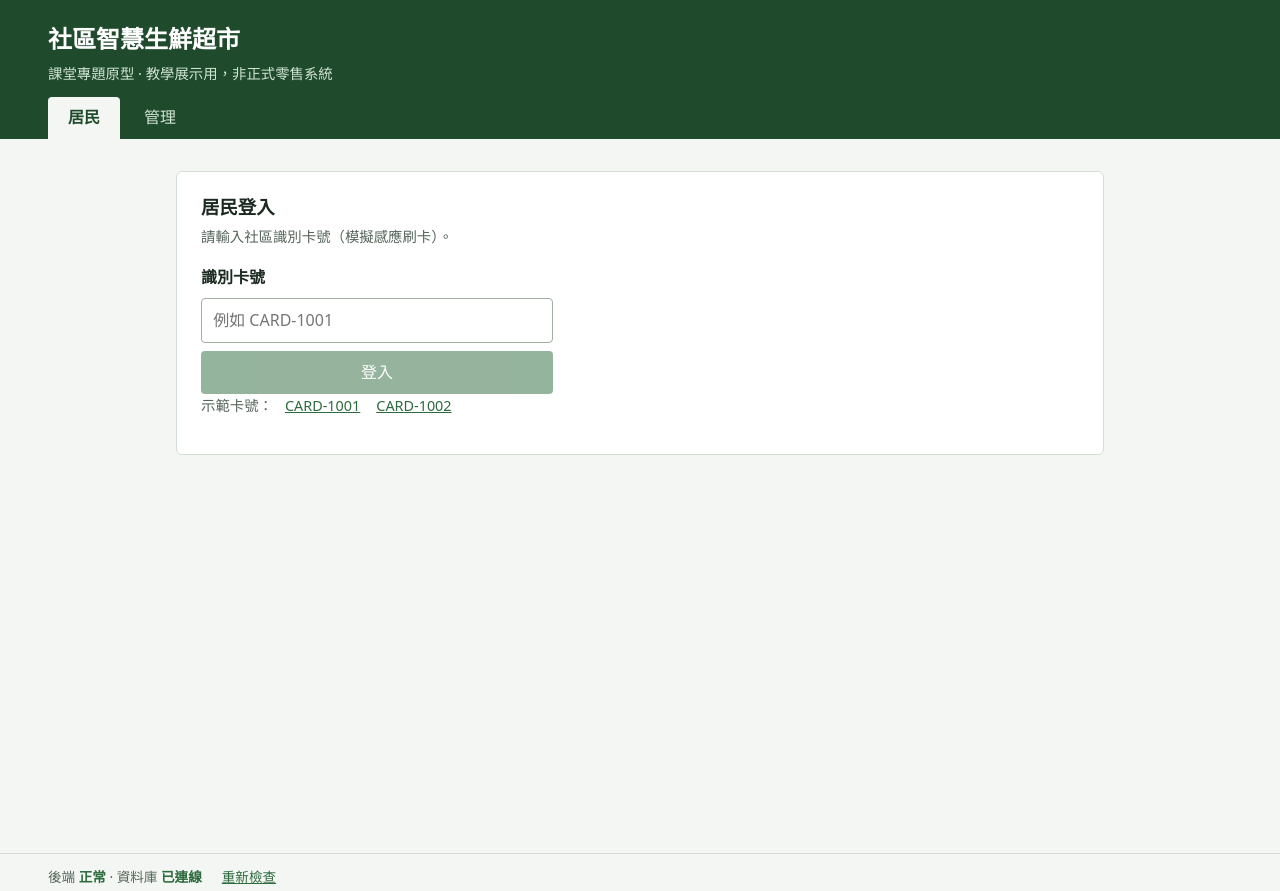
Test: shows inventory, recent orders (PAID and FAILED) and the gateway audit trail
Click the button "管理".
click(160, 118)  # box [124,97,196,139]
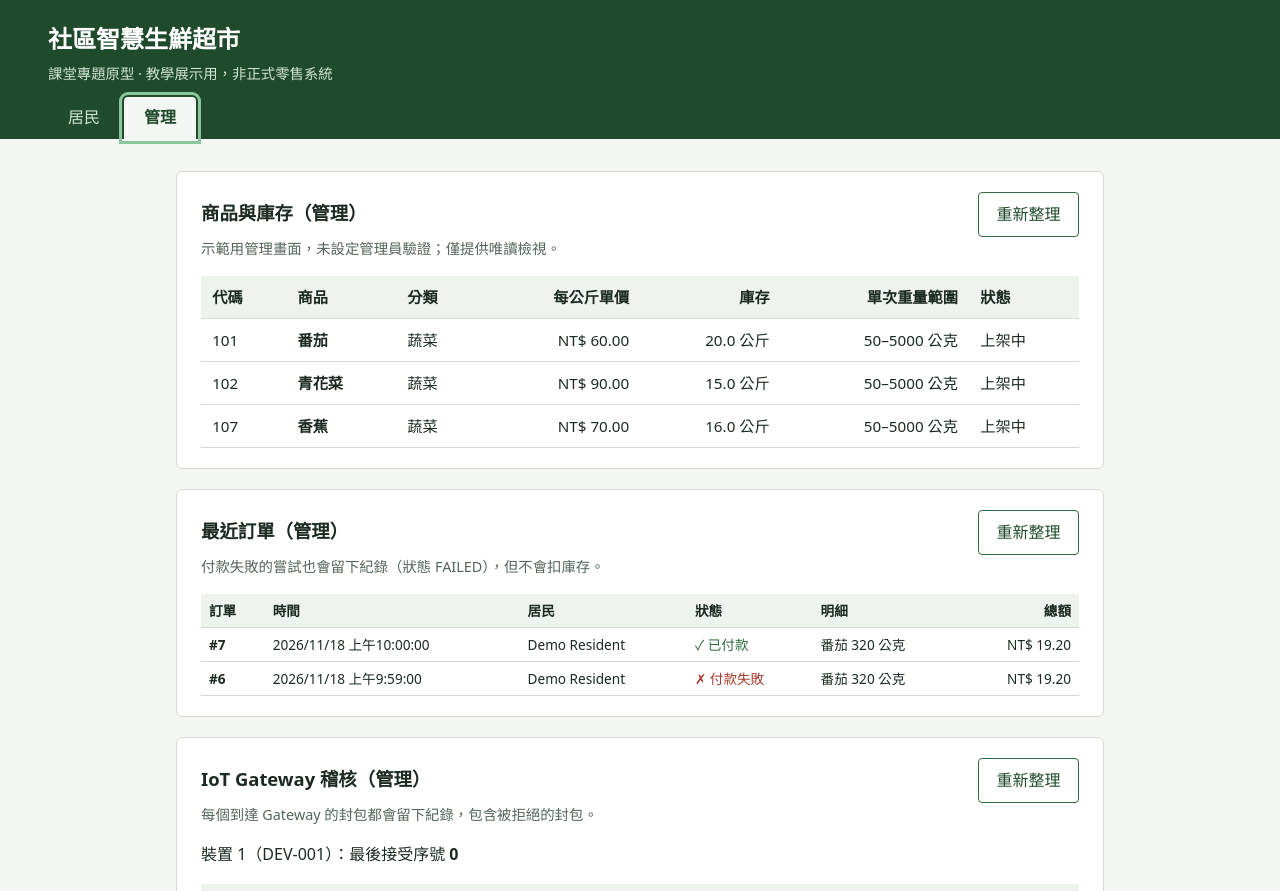
Expected: the text "✓ 已付款" is shown, [687,628,813,662]
Expected: the text "✗ 付款失敗" is shown, [687,662,813,695]
Expected: the list item "裝置 1（DEV-001）：最後接受序號 0" is shown, [201,843,458,865]
